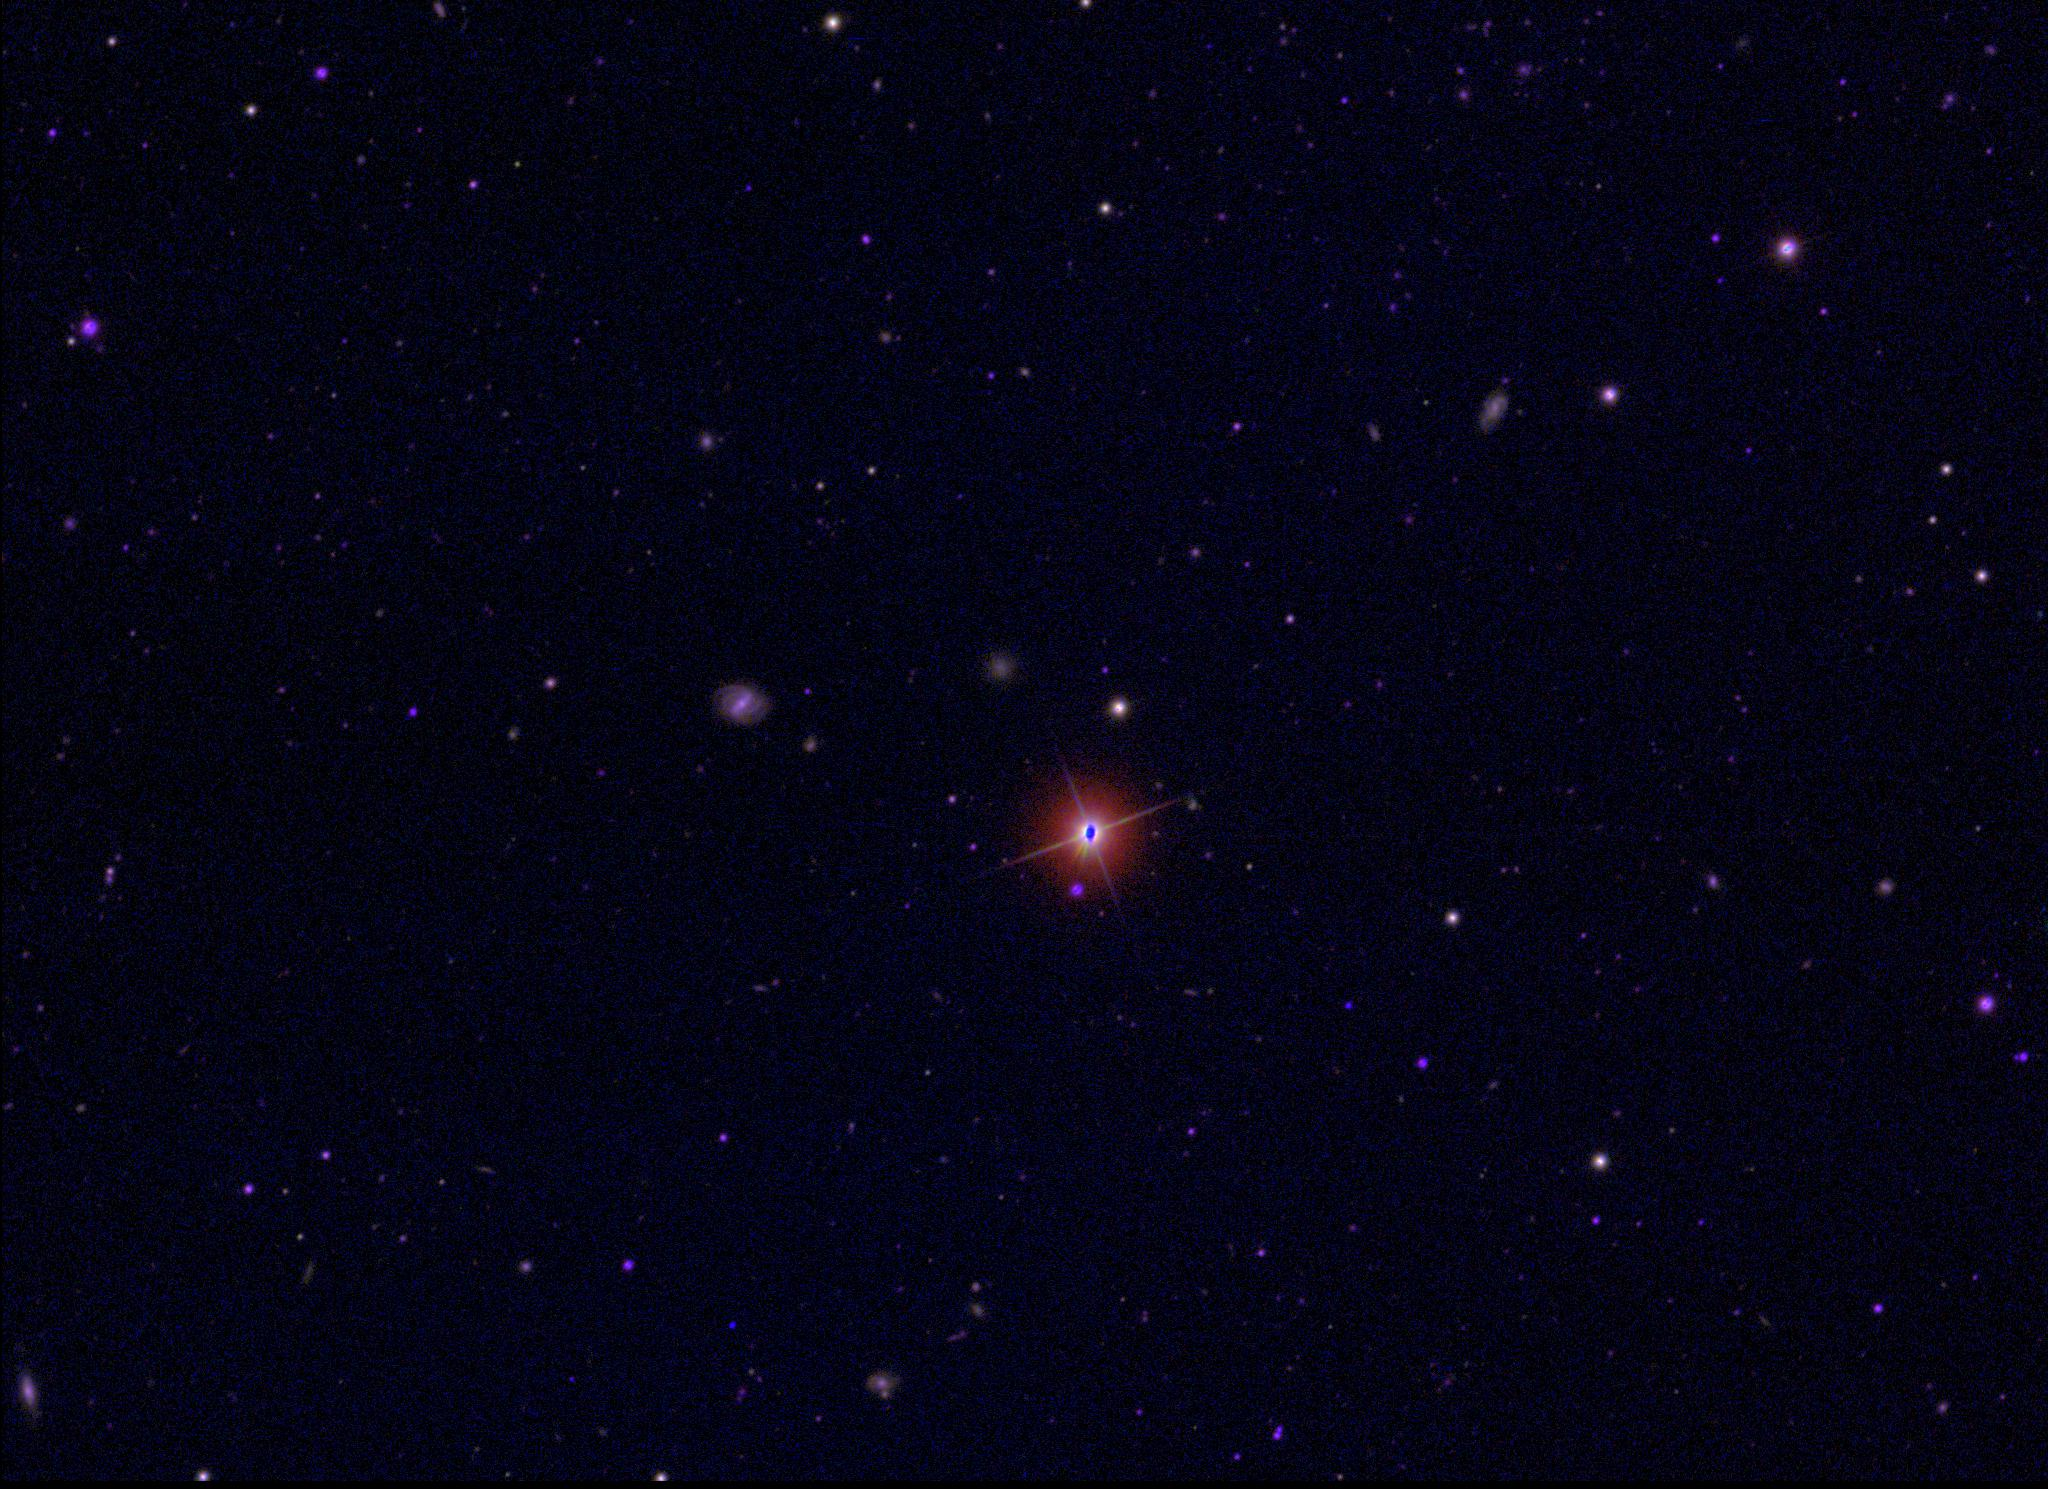L: (727, 1319, 741, 1333)
